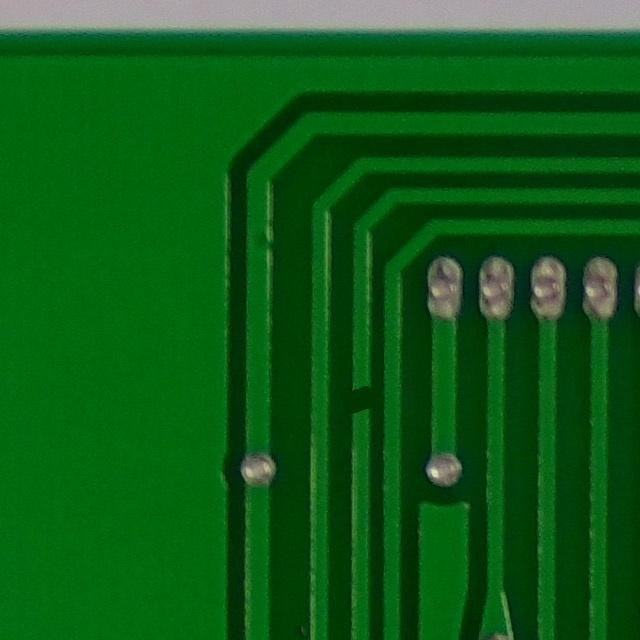open_circuit: (340, 370, 378, 437)
